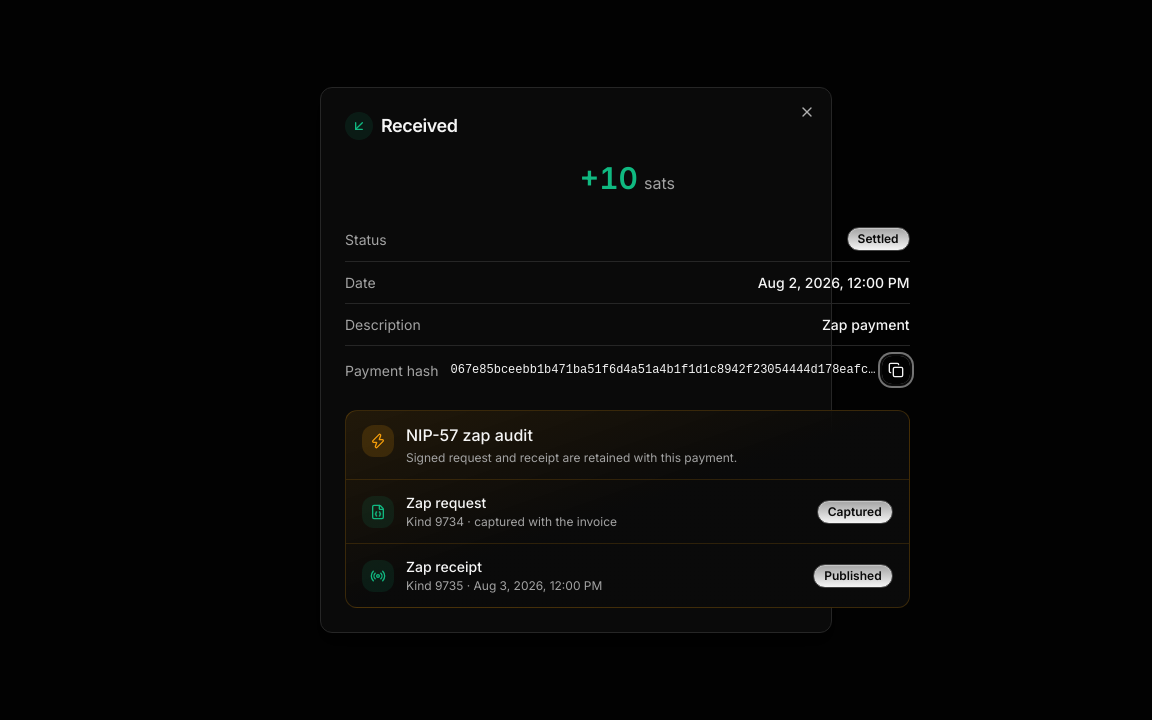
Test case: WalletTransactionDetail › shows stored NIP-57 artefacts in dedicated request and receipt modals
Expected: the text "NIP-57 zap audit" is shown, [406,425,533,445]
Expected: the text "Published" is shown, [813,564,893,588]
Click the text "Zap request": (446, 502) [406,494,486,511]
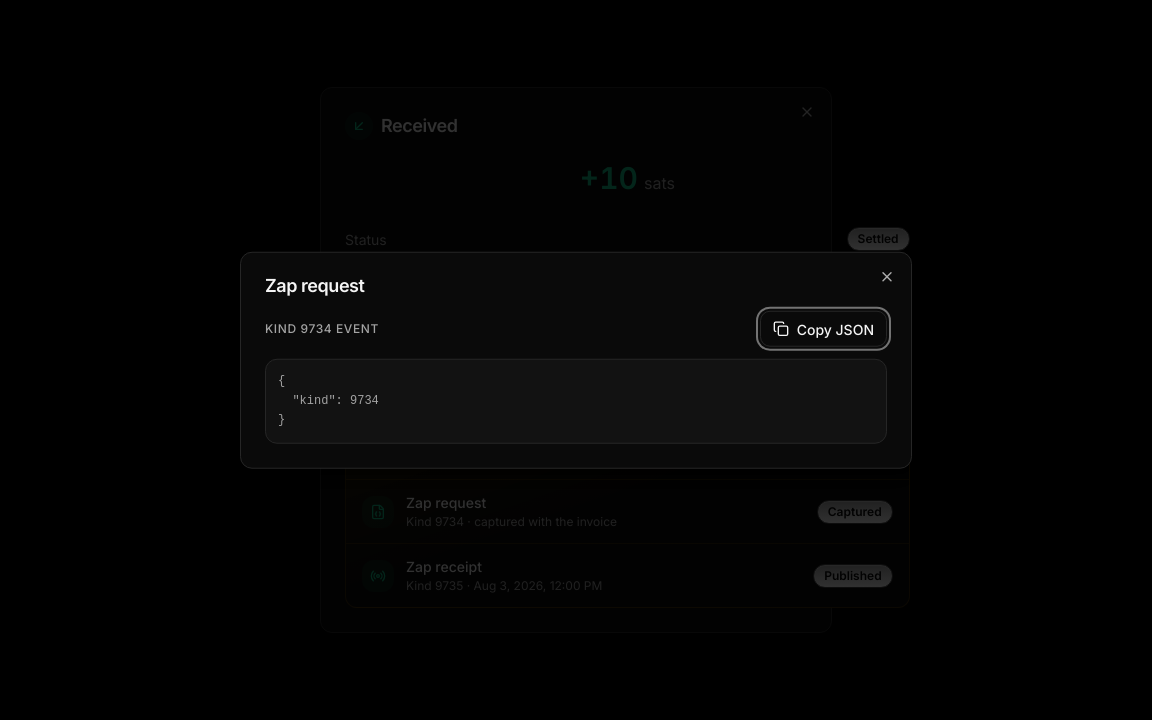
Now the text "Kind 9734 event" is shown, box [265,320,379,338]
Now the button "Copy JSON" is shown, box [760,311,887,347]
